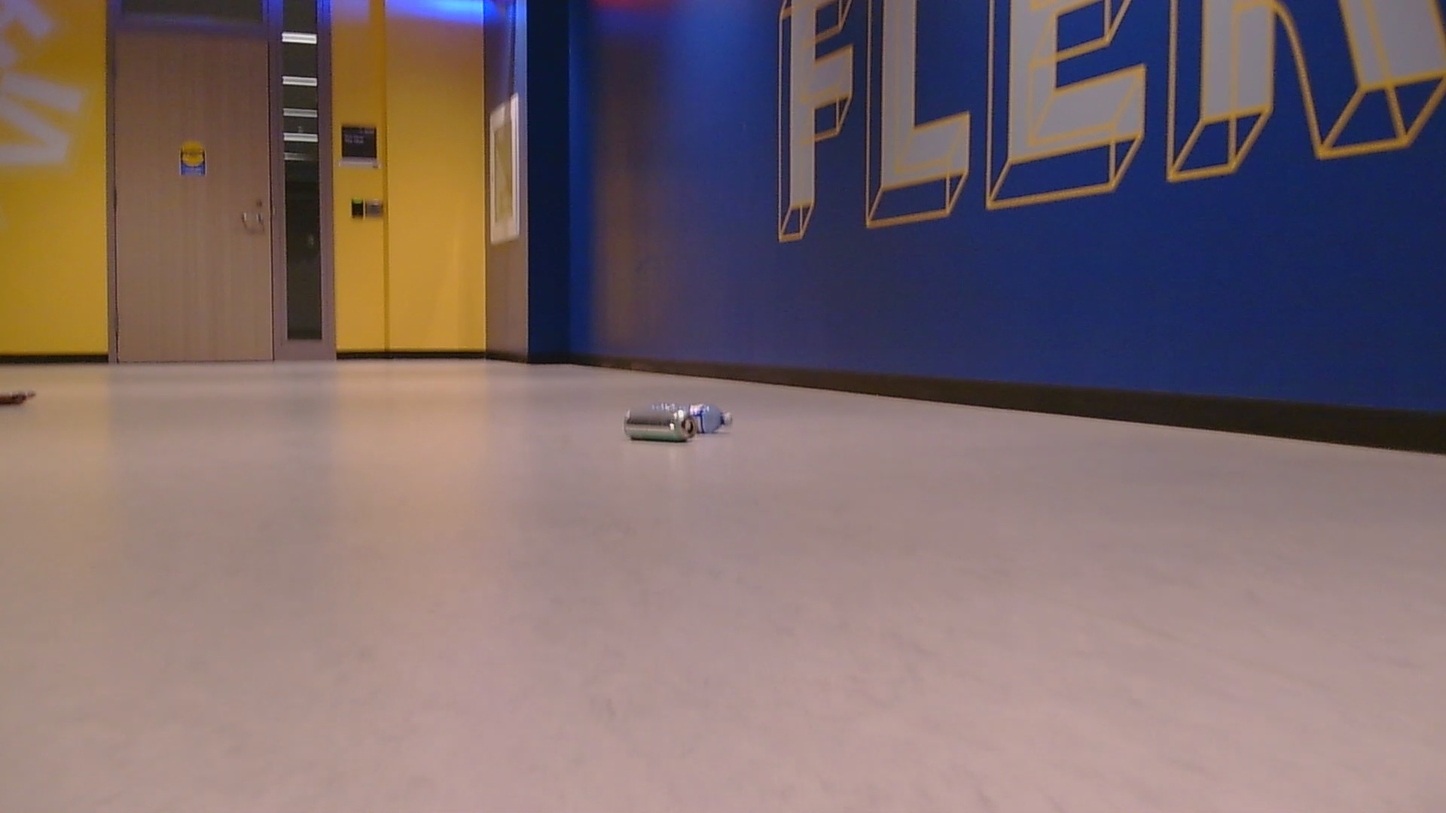can: (623, 398, 736, 443)
